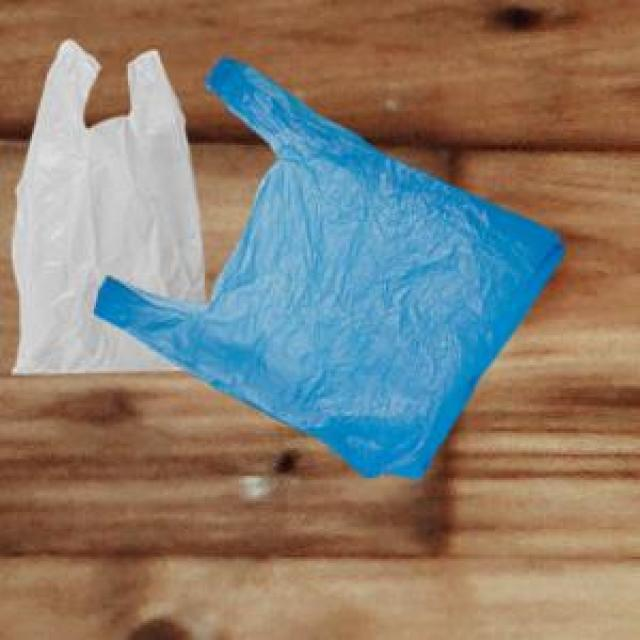plastic: (12, 34, 564, 504)
